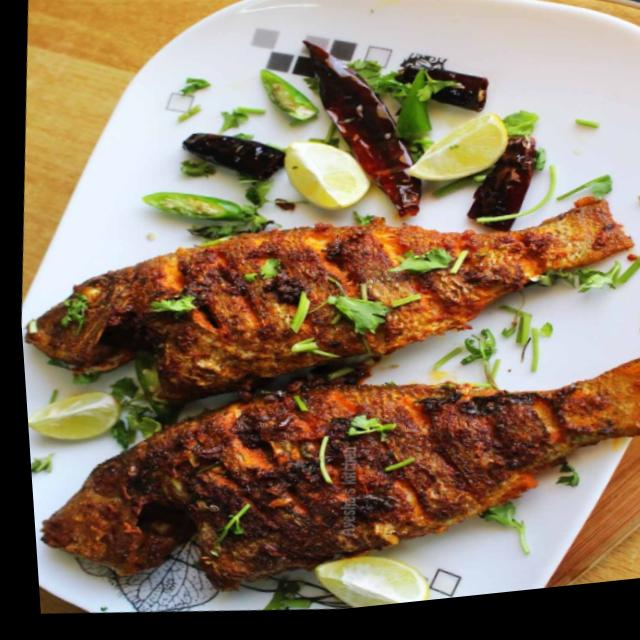FISH FRY: (41, 203, 640, 591)
